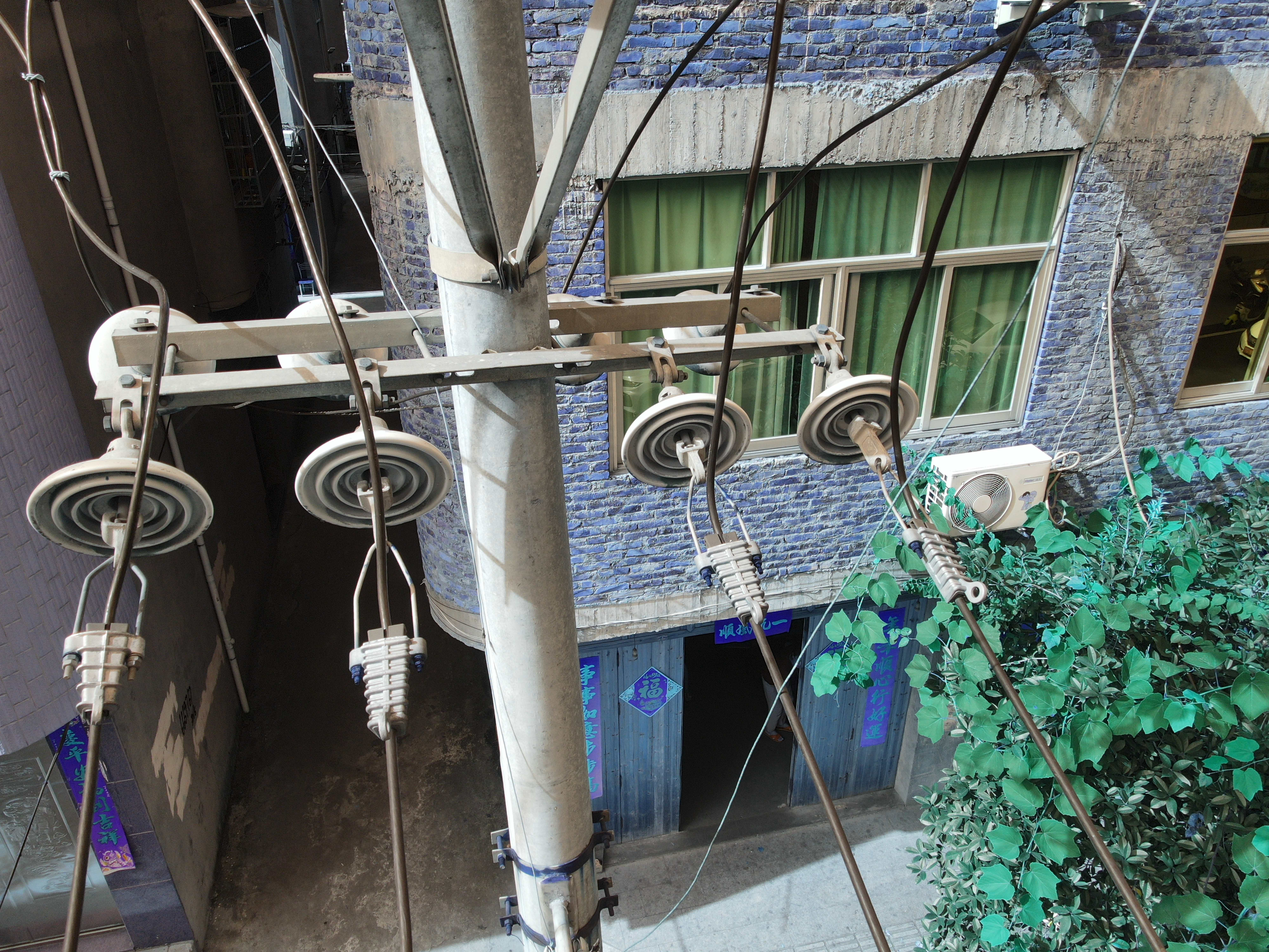severe_soiling_no_discharge_whole: (23, 435, 215, 562), (292, 412, 458, 533), (620, 383, 754, 490), (796, 367, 924, 466)
